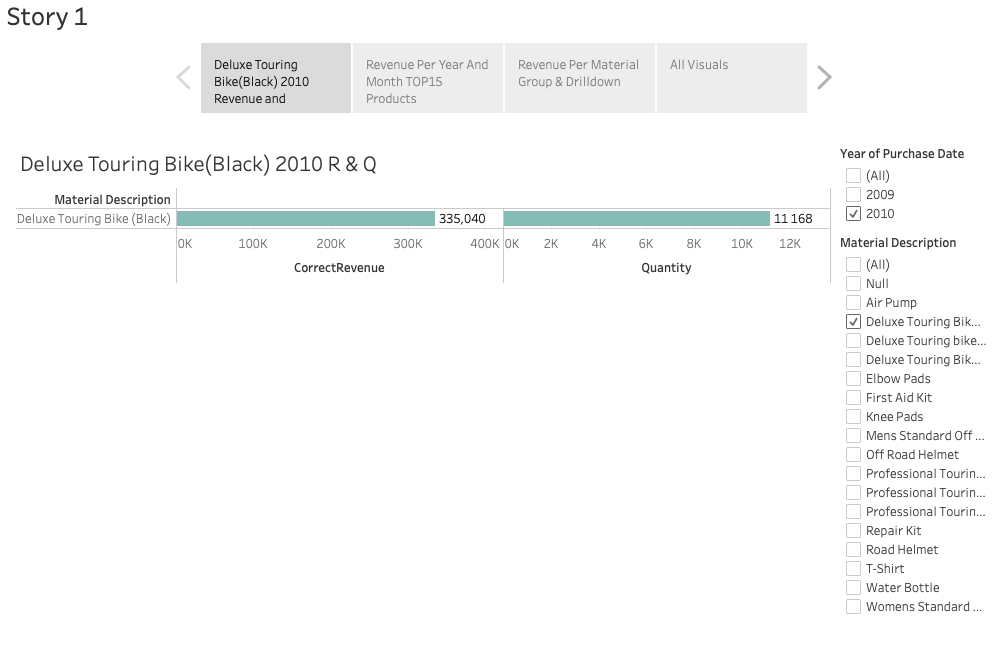

This screenshot's page, from the dashboard's own definition file:
{"tool":"tableau","page":{"name":"Dashboard 1","canvas":[1000,800],"ordinal":0},"visuals":[{"type":"worksheet","title":"Deluxe Touring Bike(Black) 2010 R & Q","mark":"Automatic","rows":["Material Description"],"cols":["Calculation_6862148852629790720","Quantity"],"box":[8,8,824,784]},{"type":"filter","title":"Deluxe Touring Bike(Black) 2010 R & Q","param":"[federated.0aq4g421knp6zg1cujwxk1yxbvzn].[yr:Purchase Date:ok]","box":[832,8,160,89]},{"type":"filter","title":"Deluxe Touring Bike(Black) 2010 R & Q","param":"[federated.0aq4g421knp6zg1cujwxk1yxbvzn].[none:Material Description:nk]","box":[832,97,160,393]}]}

Visuals, with their boxes on the page's 1000x800 design canvas (x1, y1, x2, y2). These are canvas units, not pixel positions in the 1004x645 screenshot, which may show the page scaled, cropped or inside an application window:
"Deluxe Touring Bike(Black) 2010 R & Q" worksheet: 8/8/832/792
"Deluxe Touring Bike(Black) 2010 R & Q" filter: 832/8/992/97
"Deluxe Touring Bike(Black) 2010 R & Q" filter: 832/97/992/490
